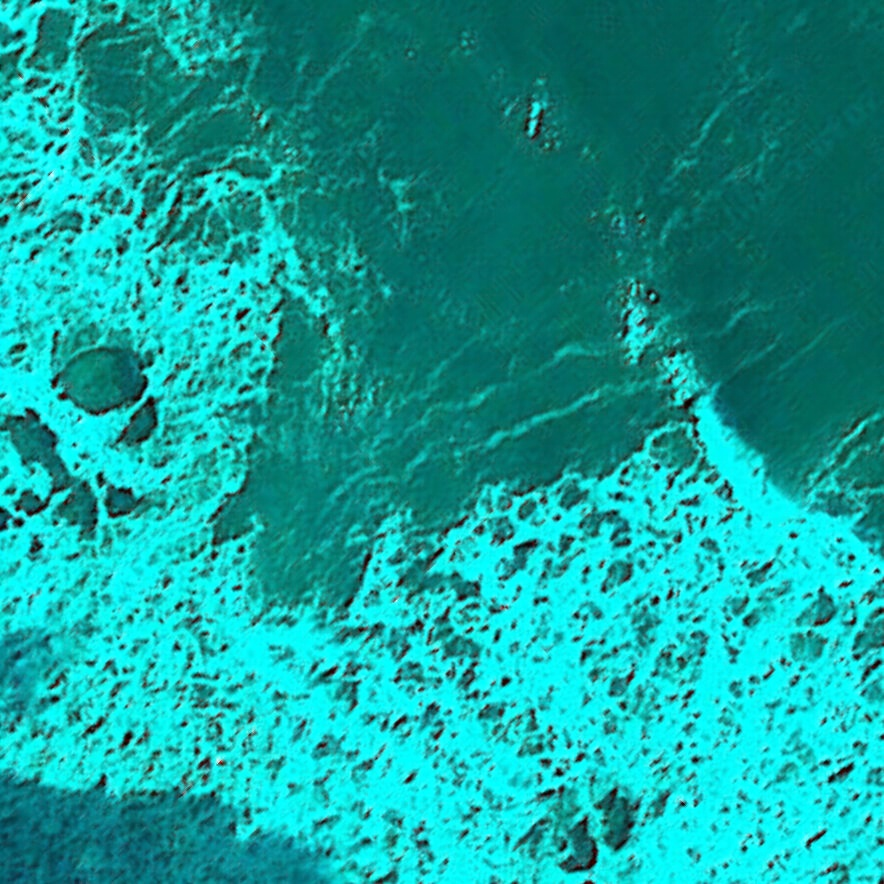rip_current: (194, 181, 670, 622)
